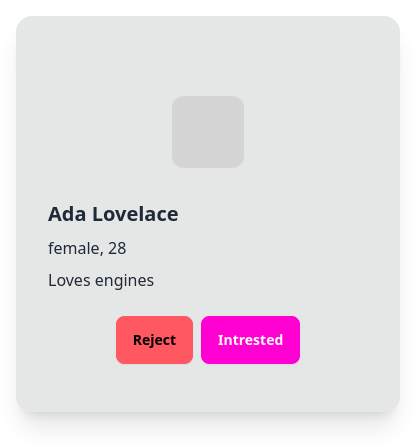
it: Feed › shows the next user after the current one is rejected
Click the button "Reject": coordinates (154, 340) [116,316,193,364]
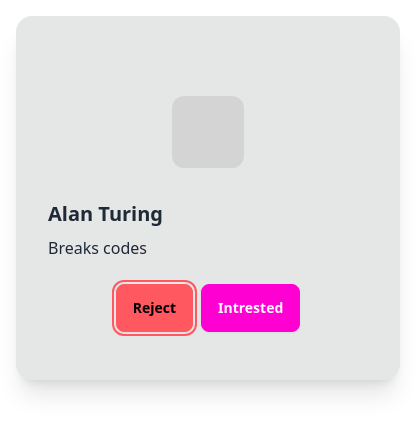
Check: the heading "Alan Turing" is shown, box [48,200,163,227]
